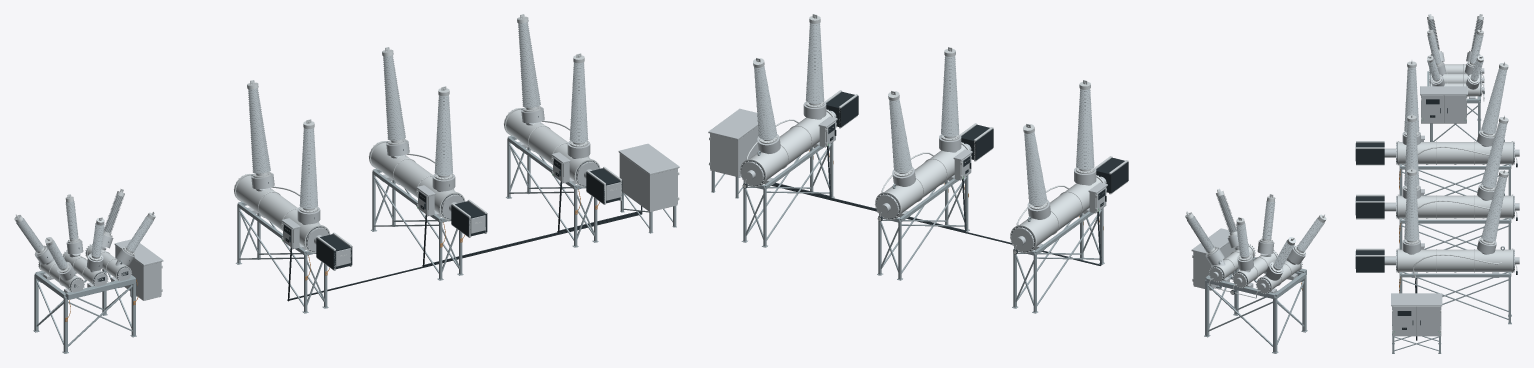
Rendered from breaker-comparison-assembled.glb.
3 renders of one model, left to right at view 1: azimuth 30°, elevation 25°; view 2: azimuth 150°, elevation 25°; view 3: azimuth 270°, elevation 25°, orthographic. The views are drawn at different scales.
Parts seen in each view (by area): view 1: Object100715, Object100887, Object100801, Object100123, Object100071, Object100019, Object101015, Object100097, Object100045, Object100592, Object100610, Object100611 (+7 smaller); view 2: Object100801, Object100715, Object100887, Object100097, Object100045, Object101015, Object100071, Object100123, Object100019, Object100613, Object100611, Object100716 (+5 smaller); view 3: Object100715, Object100801, Object100887, Object100019, Object100071, Object100123, Object101015, Object100598, Object100611, Object100045, Object100097, Object100597 (+24 smaller).
Part boxes in pixels (x1=…): Object100715: x1=506, y1=109, x2=590, y2=180; Object100887: x1=236, y1=175, x2=320, y2=246; Object100801: x1=371, y1=142, x2=455, y2=213; Object100123: x1=248, y1=88, x2=270, y2=173; Object100071: x1=383, y1=55, x2=405, y2=140; Object100019: x1=518, y1=22, x2=540, y2=107; Object101015: x1=569, y1=62, x2=588, y2=143; Object100097: x1=299, y1=128, x2=317, y2=208; Object100045: x1=434, y1=95, x2=452, y2=175; Object100592: x1=619, y1=153, x2=650, y2=211; Object100610: x1=649, y1=168, x2=677, y2=211; Object100611: x1=618, y1=143, x2=679, y2=174; Object100801: x1=885, y1=144, x2=966, y2=213; Object100715: x1=750, y1=111, x2=831, y2=180; Object100887: x1=1020, y1=177, x2=1101, y2=246; Object100097: x1=1076, y1=88, x2=1094, y2=169; Object100045: x1=941, y1=56, x2=959, y2=136; Object101015: x1=806, y1=23, x2=824, y2=103; Object100071: x1=889, y1=99, x2=912, y2=173; Object100123: x1=1024, y1=131, x2=1047, y2=205; Object100019: x1=754, y1=66, x2=776, y2=140; Object100613: x1=710, y1=133, x2=738, y2=176; Object100611: x1=708, y1=108, x2=757, y2=140; Object100716: x1=826, y1=91, x2=858, y2=127; Object100715: x1=1399, y1=249, x2=1511, y2=271; Object100801: x1=1399, y1=195, x2=1511, y2=218; Object100887: x1=1399, y1=142, x2=1511, y2=164; Object100019: x1=1481, y1=176, x2=1507, y2=241; Object100071: x1=1481, y1=122, x2=1506, y2=187; Object100123: x1=1481, y1=68, x2=1506, y2=133; Object101015: x1=1404, y1=175, x2=1419, y2=241; Object100598: x1=1416, y1=306, x2=1440, y2=335; Object100611: x1=1391, y1=293, x2=1442, y2=306; Object100045: x1=1404, y1=121, x2=1419, y2=186; Object100097: x1=1404, y1=67, x2=1419, y2=132; Object100597: x1=1392, y1=306, x2=1416, y2=335.
Bounding box in the file's own units: 22.07 × 6.4 × 6.3.
